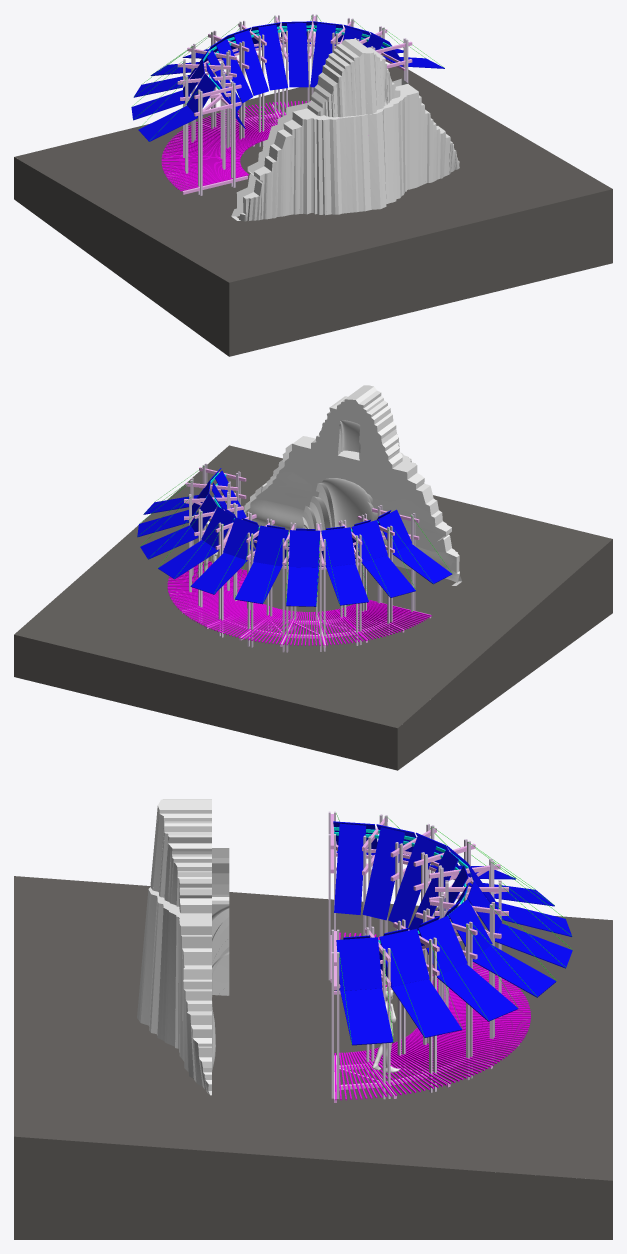
The model's file is 3D_projet.glb.
3 views of the same model, one above another, from view 1: azimuth 30°, elevation 25°; view 2: azimuth 150°, elevation 25°; view 3: azimuth 270°, elevation 25° (orthographic). The views are drawn at different scales.
Parts seen in each view (by area): view 1: object 342, object 166, object 165, object 277, object 276, object 275, object 204, object 278, object 203, object 274, object 202, object 213; view 2: object 342, object 166, object 165, object 201, object 202, object 200, object 210, object 203, object 199, object 211, object 209, object 204 (+7 smaller); view 3: object 342, object 166, object 165, object 232, object 215, object 196, object 216, object 246, object 197, object 205, object 198, object 273 (+7 smaller).
Boxes of the visible parts, x1=… form: object 342: x1=14, y1=66, x2=612, y2=356; object 166: x1=231, y1=78, x2=459, y2=221; object 165: x1=307, y1=39, x2=400, y2=117; object 277: x1=287, y1=23, x2=308, y2=87; object 276: x1=258, y1=24, x2=287, y2=90; object 275: x1=233, y1=30, x2=268, y2=95; object 204: x1=138, y1=106, x2=202, y2=141; object 278: x1=310, y1=23, x2=335, y2=87; object 203: x1=131, y1=90, x2=190, y2=120; object 274: x1=216, y1=39, x2=253, y2=103; object 202: x1=133, y1=75, x2=189, y2=97; object 213: x1=186, y1=73, x2=216, y2=116; object 342: x1=14, y1=445, x2=612, y2=770; object 166: x1=244, y1=436, x2=462, y2=585; object 165: x1=311, y1=385, x2=402, y2=468; object 201: x1=286, y1=567, x2=319, y2=606; object 202: x1=325, y1=564, x2=368, y2=605; object 200: x1=235, y1=562, x2=282, y2=604; object 210: x1=289, y1=530, x2=320, y2=567; object 203: x1=361, y1=556, x2=415, y2=597; object 199: x1=190, y1=553, x2=247, y2=594; object 211: x1=321, y1=527, x2=355, y2=566; object 209: x1=253, y1=525, x2=288, y2=566; object 204: x1=392, y1=544, x2=452, y2=584; object 342: x1=14, y1=876, x2=612, y2=1239; object 166: x1=137, y1=848, x2=229, y2=1095; object 165: x1=150, y1=799, x2=211, y2=913; object 232: x1=334, y1=823, x2=366, y2=914; object 215: x1=339, y1=988, x2=393, y2=1045; object 196: x1=390, y1=979, x2=462, y2=1037; object 216: x1=336, y1=937, x2=382, y2=991; object 246: x1=362, y1=827, x2=404, y2=920; object 197: x1=437, y1=964, x2=518, y2=1021; object 205: x1=379, y1=929, x2=429, y2=986; object 198: x1=472, y1=945, x2=556, y2=997; object 273: x1=388, y1=836, x2=436, y2=928.
Size of the model in its own units: 0.1639 by 0.0897 by 0.1592.
